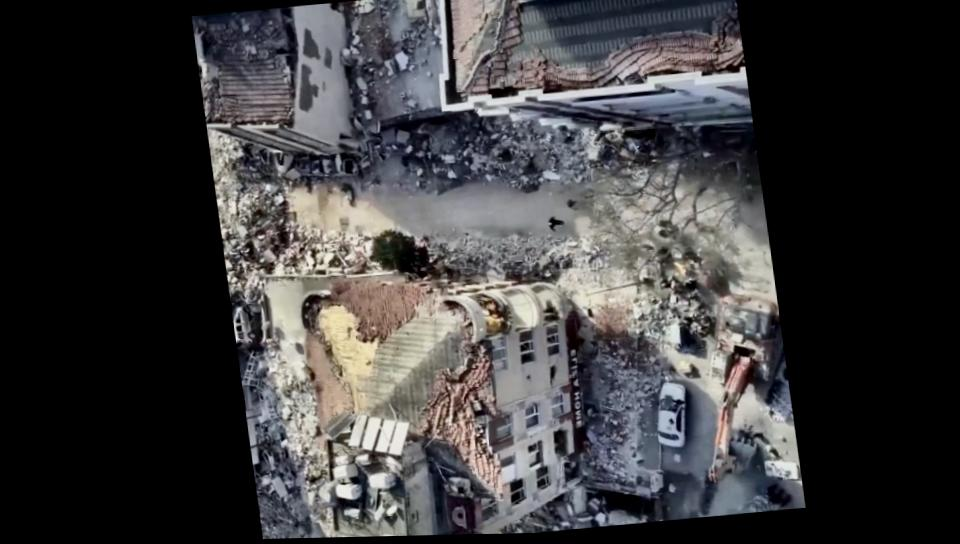kapali: (214, 175, 342, 276)
